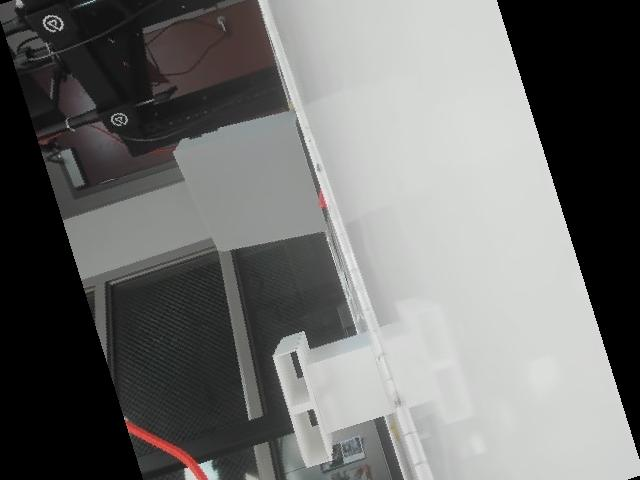grey pallet: (169, 105, 350, 258)
white pallet: (254, 311, 415, 476)
